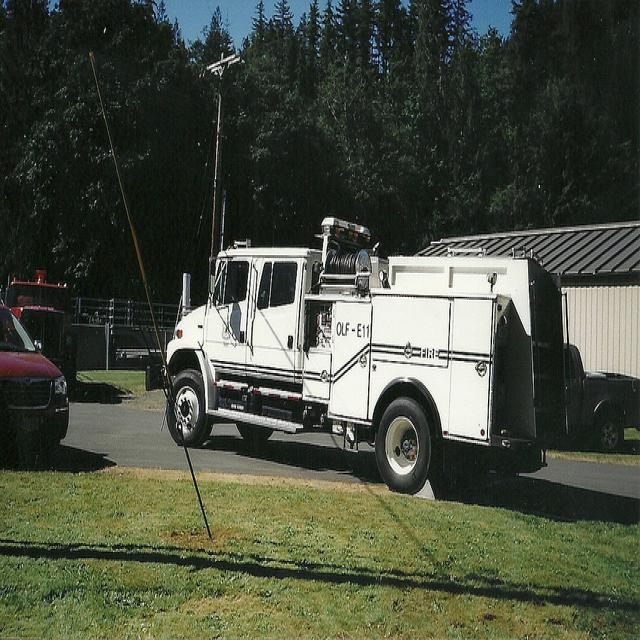Vehicle: (147, 220, 572, 496), (0, 306, 71, 444), (3, 270, 77, 390), (560, 343, 639, 451)
